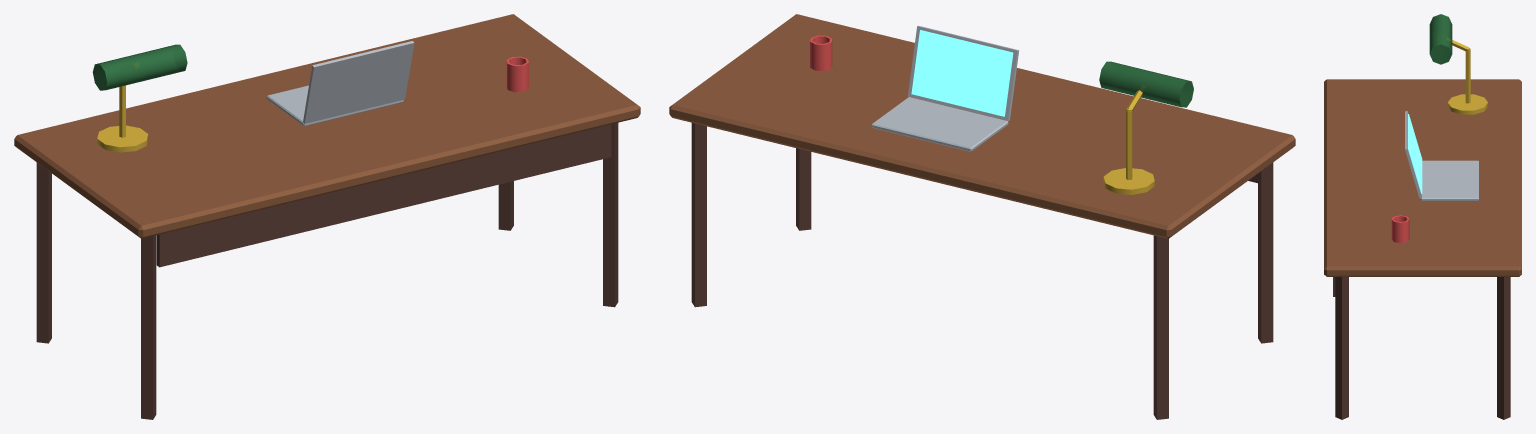
The model's file is desk.glb.
The picture shows the model from 3 angles, left to right: view 1: azimuth 30°, elevation 25°; view 2: azimuth 150°, elevation 25°; view 3: azimuth 270°, elevation 25°; orthographic projection. The views are drawn at different scales.
Parts seen in each view (by area): view 1: desk; view 2: desk; view 3: desk.
Part boxes in pixels (x1,y1,x2,y2): desk: (14,14,640,419); desk: (669,14,1295,419); desk: (1324,14,1521,419).
Size of the model in its own units: 2 by 1.15 by 0.88.
